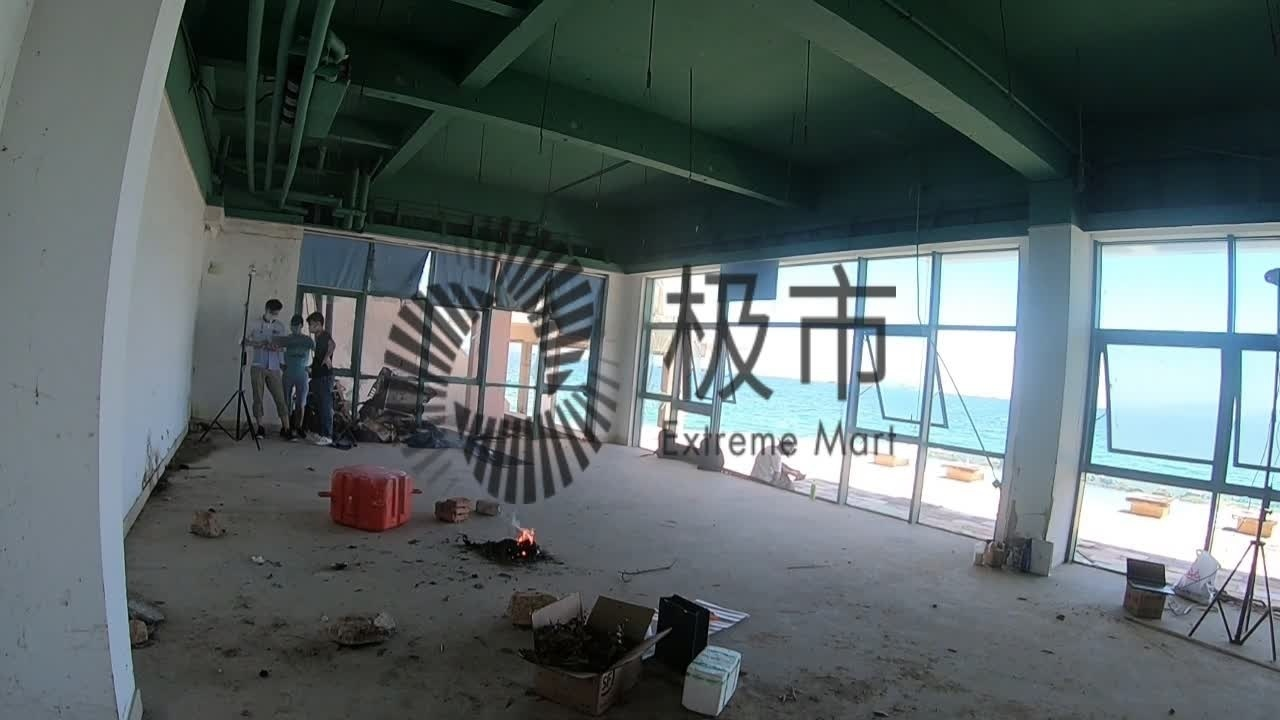fire: (511, 521, 540, 558)
